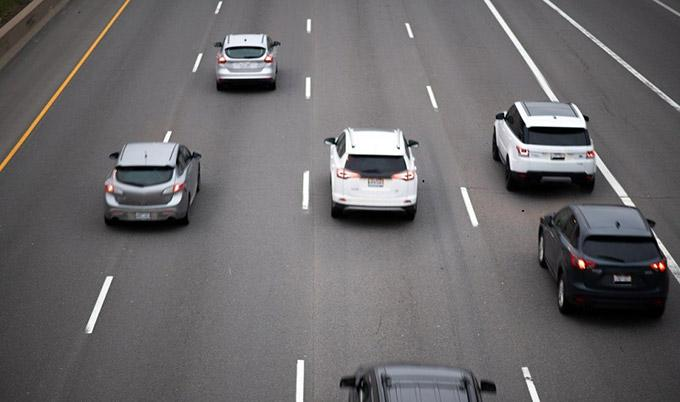car: (519, 198, 680, 330), (305, 115, 441, 238), (479, 90, 617, 198), (92, 131, 225, 239), (322, 349, 506, 402), (204, 18, 302, 104)
